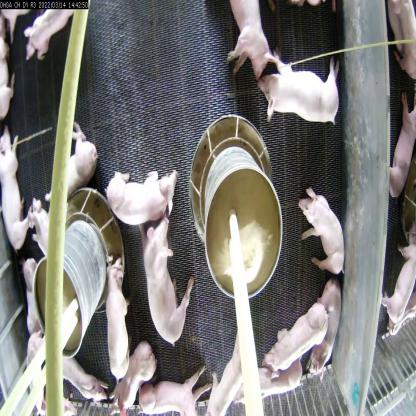Pig: (255, 49, 349, 130), (139, 224, 194, 340), (95, 260, 139, 381), (44, 125, 102, 213), (217, 0, 272, 86), (111, 157, 178, 227), (268, 297, 328, 375), (298, 186, 346, 275), (0, 127, 33, 255), (235, 354, 308, 403), (138, 372, 213, 415), (311, 284, 342, 383), (208, 337, 247, 415), (112, 342, 153, 415)
